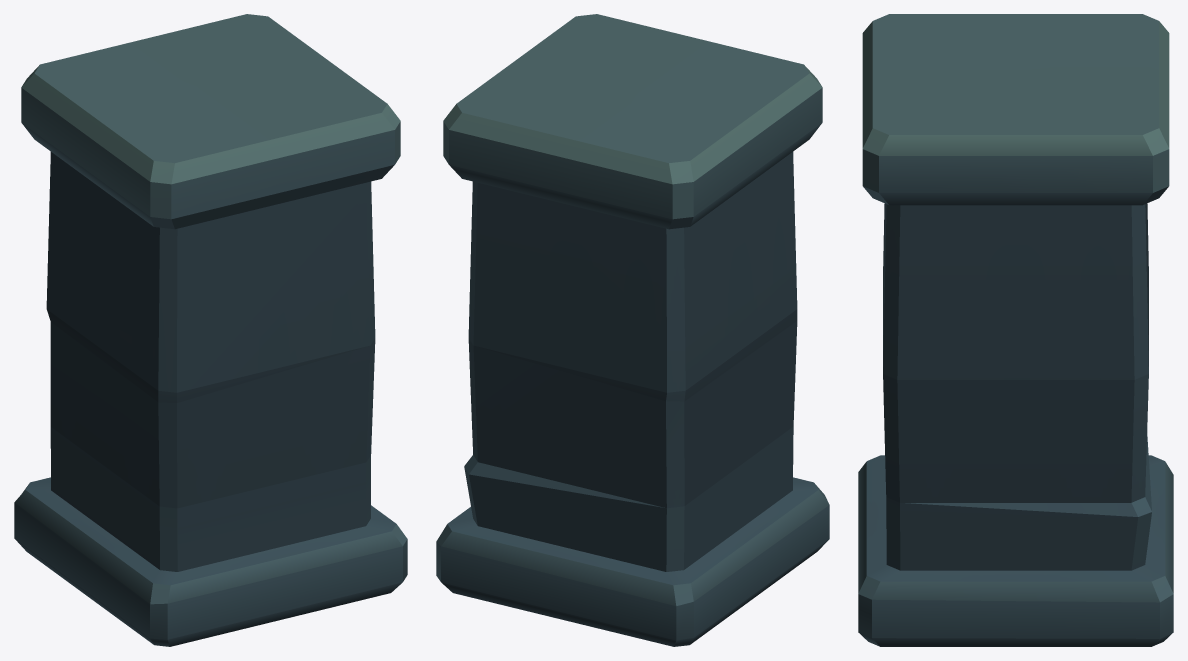
The model's file is pillar_medium_segment.fbx.
3 renders of one model, left to right at view 1: azimuth 30°, elevation 25°; view 2: azimuth 150°, elevation 25°; view 3: azimuth 270°, elevation 25°, orthographic. The views are drawn at different scales.
Visible parts, largest first — view 1: pillar_medium_segment; view 2: pillar_medium_segment; view 3: pillar_medium_segment.
Part boxes in pixels (bbox=[...]): pillar_medium_segment: bbox=[14, 14, 407, 646]; pillar_medium_segment: bbox=[436, 14, 829, 646]; pillar_medium_segment: bbox=[858, 14, 1173, 646].
Size of the model in its own units: 116 by 206 by 115.
